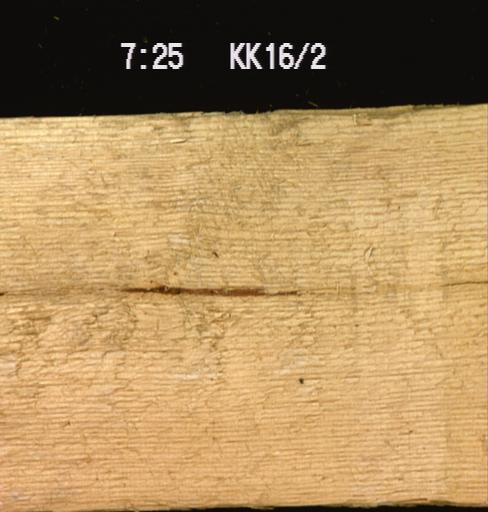split: (428, 260, 487, 292)
